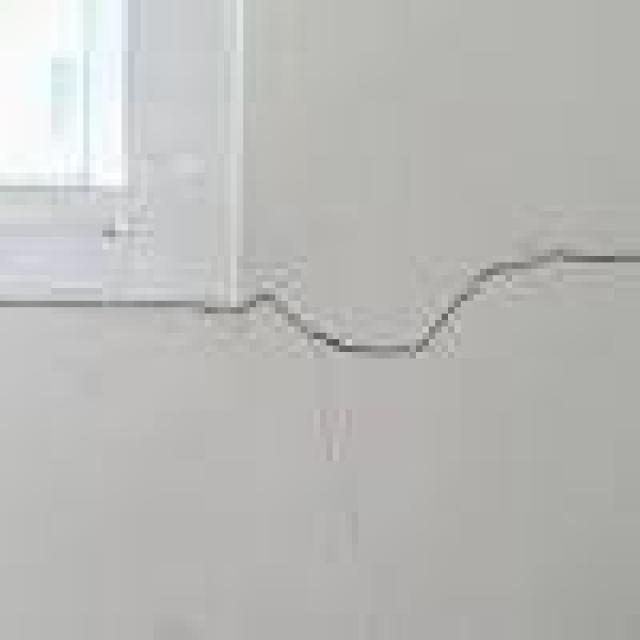Crack: (224, 230, 634, 358)
